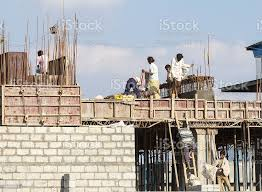nohelmet: (171, 62, 187, 79), (175, 51, 186, 61), (145, 55, 156, 63), (37, 49, 44, 56)
novest: (142, 64, 157, 93)
